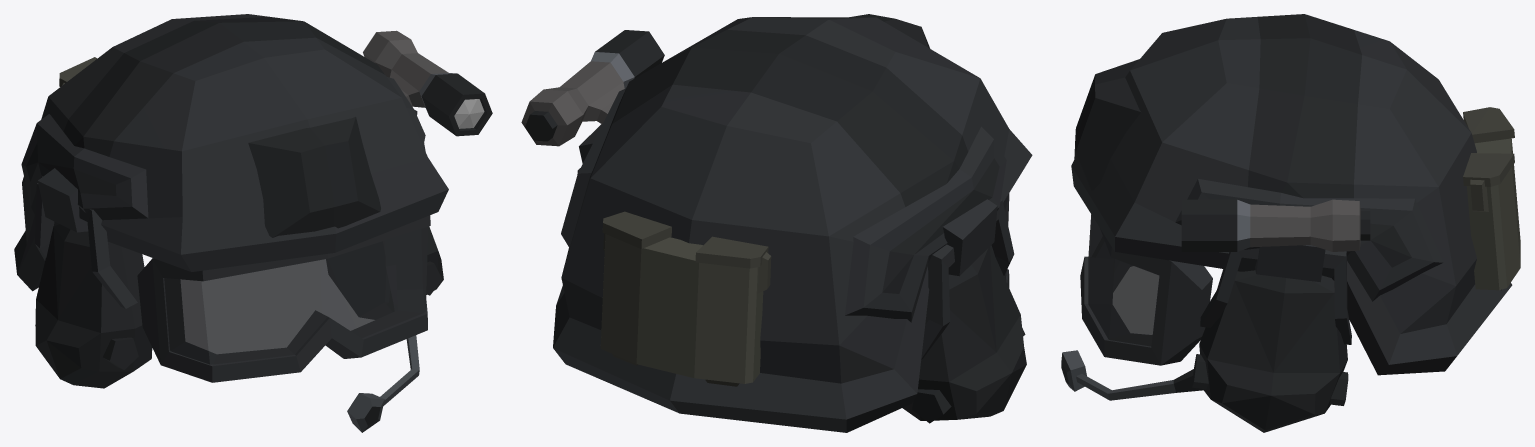
Rendered from SM_Chr_Attach_Helmet_07.fbx.
3 renders of one model, left to right at view 1: azimuth 30°, elevation 25°; view 2: azimuth 150°, elevation 25°; view 3: azimuth 270°, elevation 25°, orthographic. The views are drawn at different scales.
Parts seen in each view (by area): view 1: SM_Chr_Attach_Helmet_07, SM_Chr_Attach_Helmet_07_Glass; view 2: SM_Chr_Attach_Helmet_07; view 3: SM_Chr_Attach_Helmet_07, SM_Chr_Attach_Helmet_07_Glass.
Boxes of the visible parts, left/top/right/bottom form: SM_Chr_Attach_Helmet_07: left=14, top=14, right=492, bottom=432; SM_Chr_Attach_Helmet_07_Glass: left=164, top=227, right=428, bottom=364; SM_Chr_Attach_Helmet_07: left=521, top=14, right=1032, bottom=432; SM_Chr_Attach_Helmet_07: left=1061, top=14, right=1520, bottom=432; SM_Chr_Attach_Helmet_07_Glass: left=1088, top=214, right=1159, bottom=346.
Bounding box in the file's own units: 35.87 × 28.08 × 34.75.
